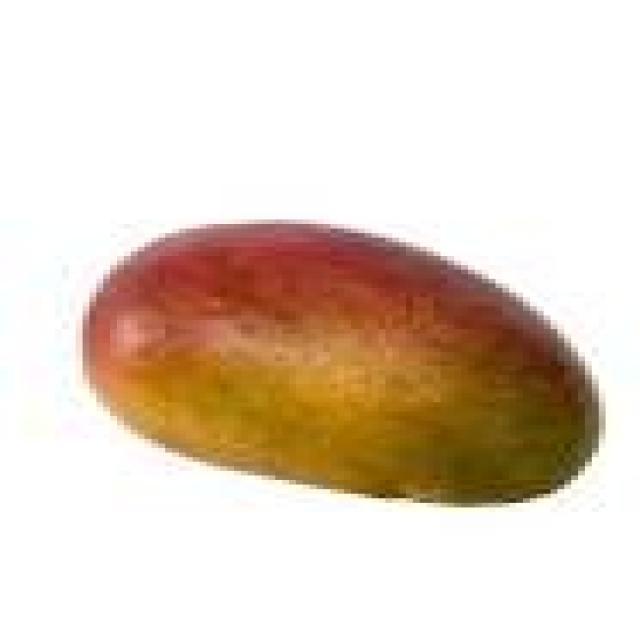mango: (87, 222, 593, 502)
